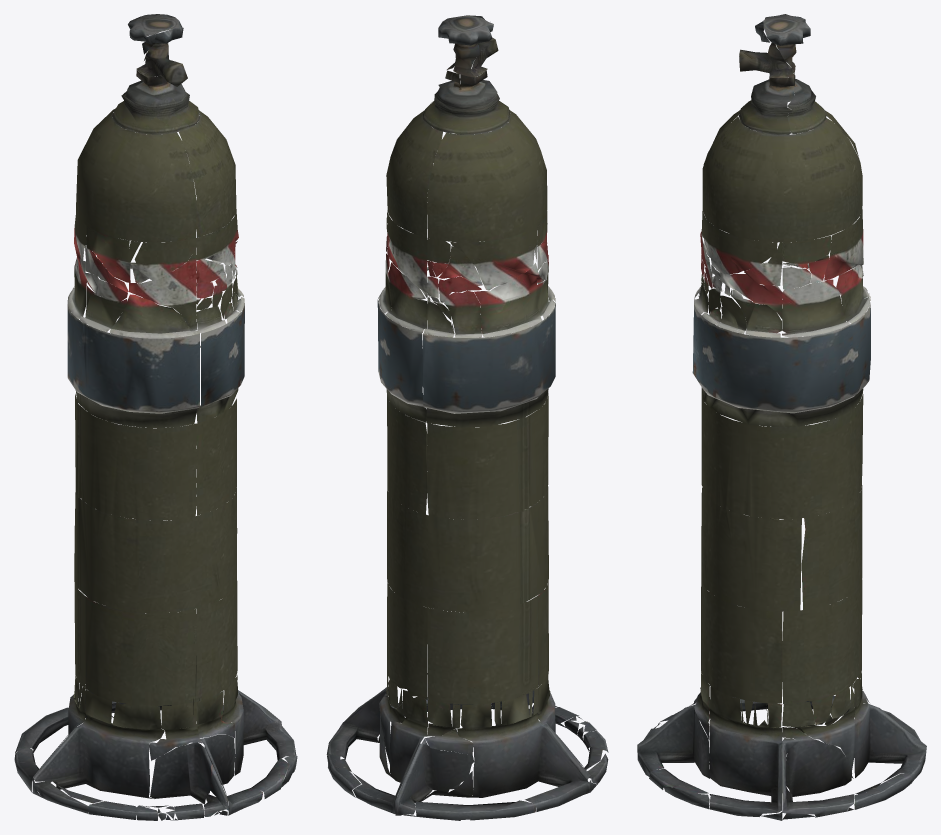
File: barrel.glb
The picture shows the model from 3 angles, left to right: view 1: azimuth 30°, elevation 25°; view 2: azimuth 150°, elevation 25°; view 3: azimuth 270°, elevation 25°; orthographic projection.
Parts seen in each view (by area): view 1: Mesh; view 2: Mesh; view 3: Mesh.
Part boxes in pixels (<box>): Mesh: <box>14,14,297,820</box>; Mesh: <box>326,15,608,820</box>; Mesh: <box>637,14,926,820</box>.
Size of the model in its own units: 0.3523 by 1 by 0.3558.
1 material, 1 textured.
